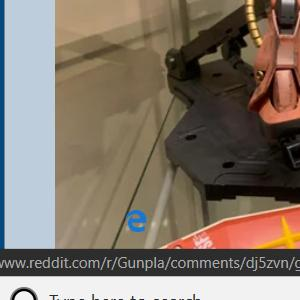edge: (126, 211, 148, 232)
